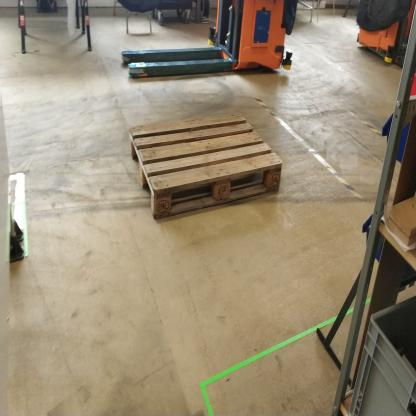BoxFace: (126, 107, 285, 231)
